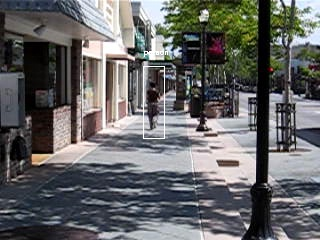person: (146, 81, 161, 132), (145, 81, 160, 132), (147, 81, 162, 132), (146, 80, 161, 131), (146, 82, 161, 133)
target_negative: (166, 133, 258, 181), (156, 204, 290, 221), (66, 163, 168, 166), (139, 59, 208, 63), (223, 39, 226, 89)
